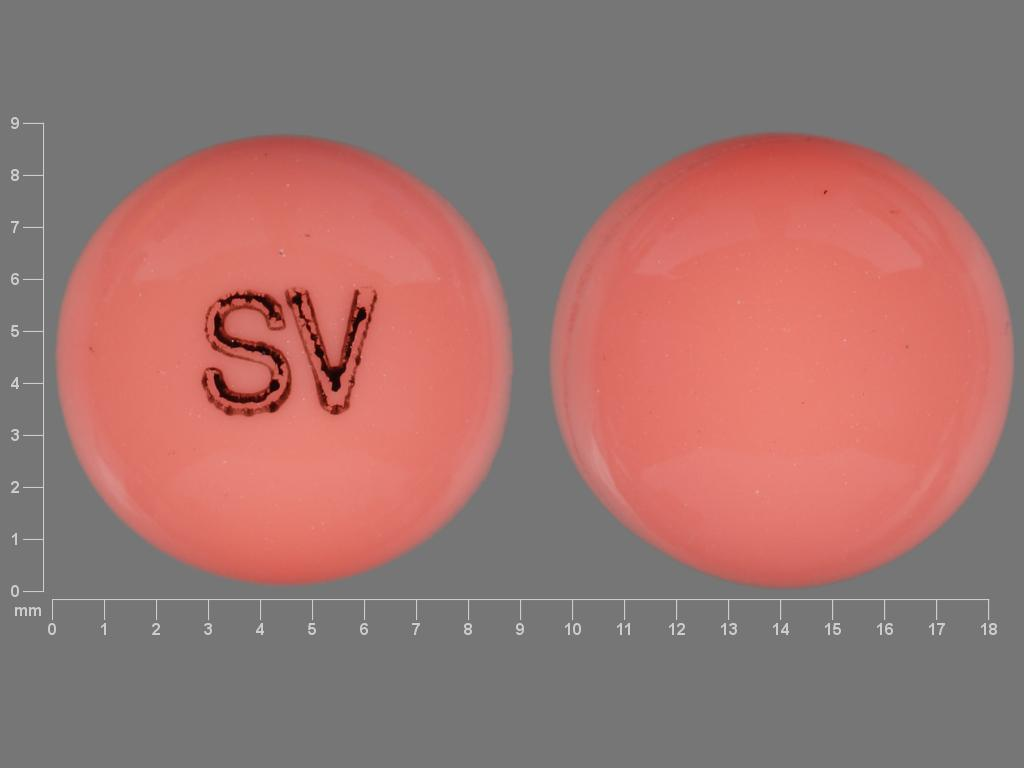Pill: (542, 126, 1024, 595), (50, 128, 520, 591)
